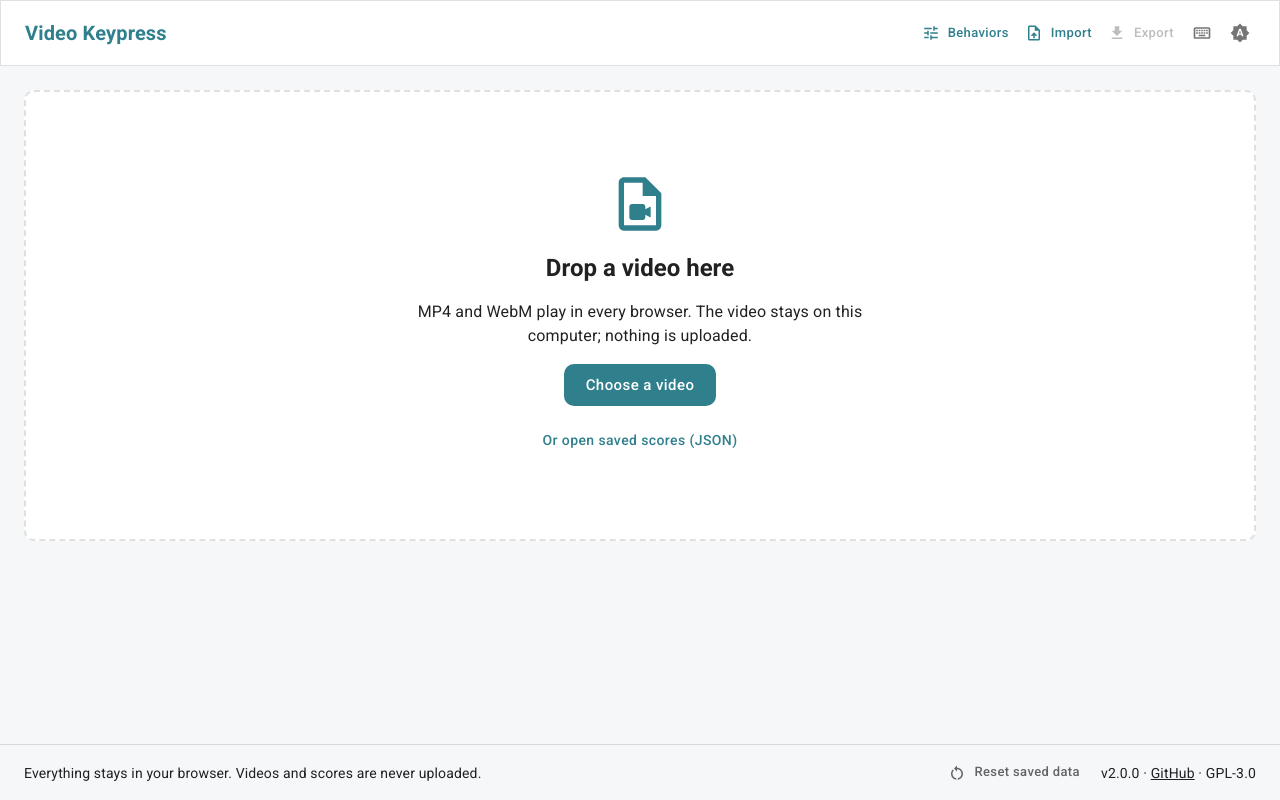
Test case: App › lists player keys and each behavior's hotkey in the shortcuts dialog
What coordinates should you click on to do the following:
click the button named "Keyboard shortcuts"
I would click on:
 (1202, 33)
Its box is x1=1187 y1=18 x2=1217 y2=48.
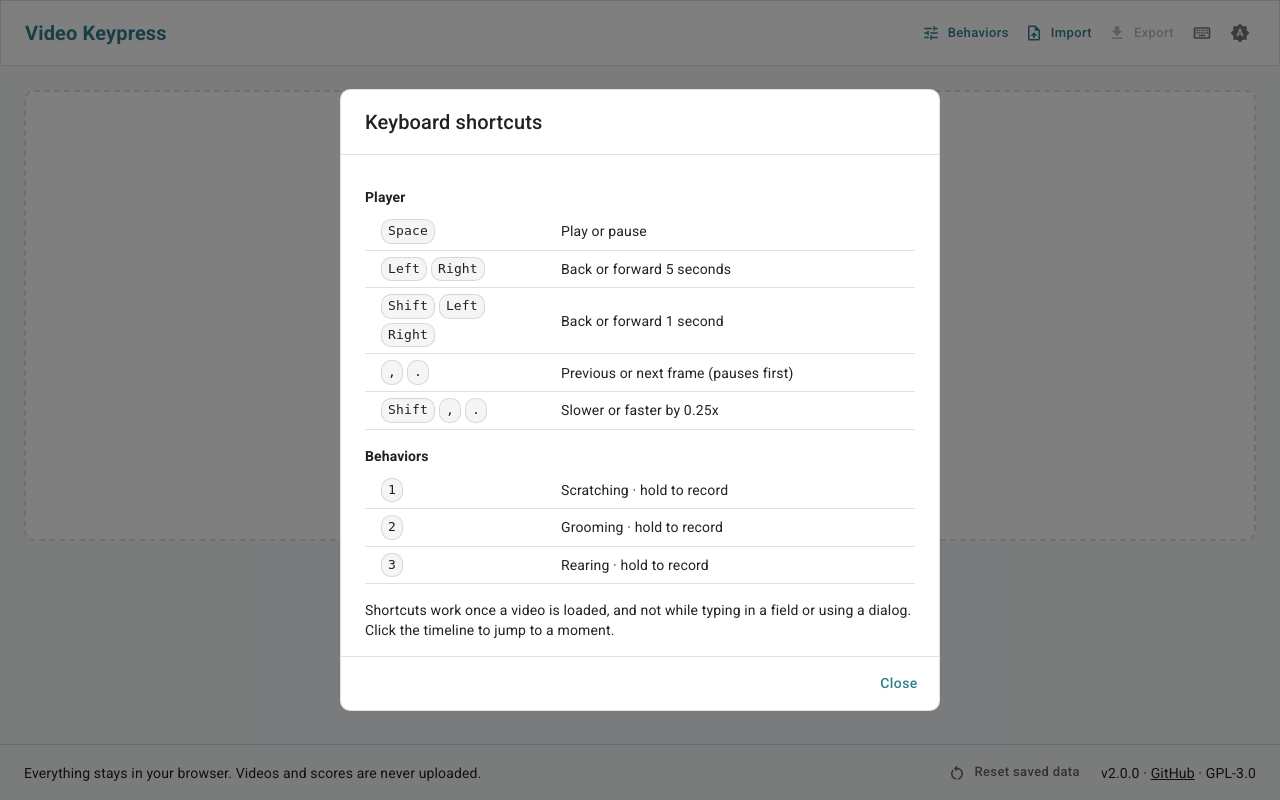
Expected: the text "Play or pause" is shown, x1=545 y1=213 x2=915 y2=250
Expected: the text "Grooming · hold to record" is shown, x1=545 y1=509 x2=915 y2=546
